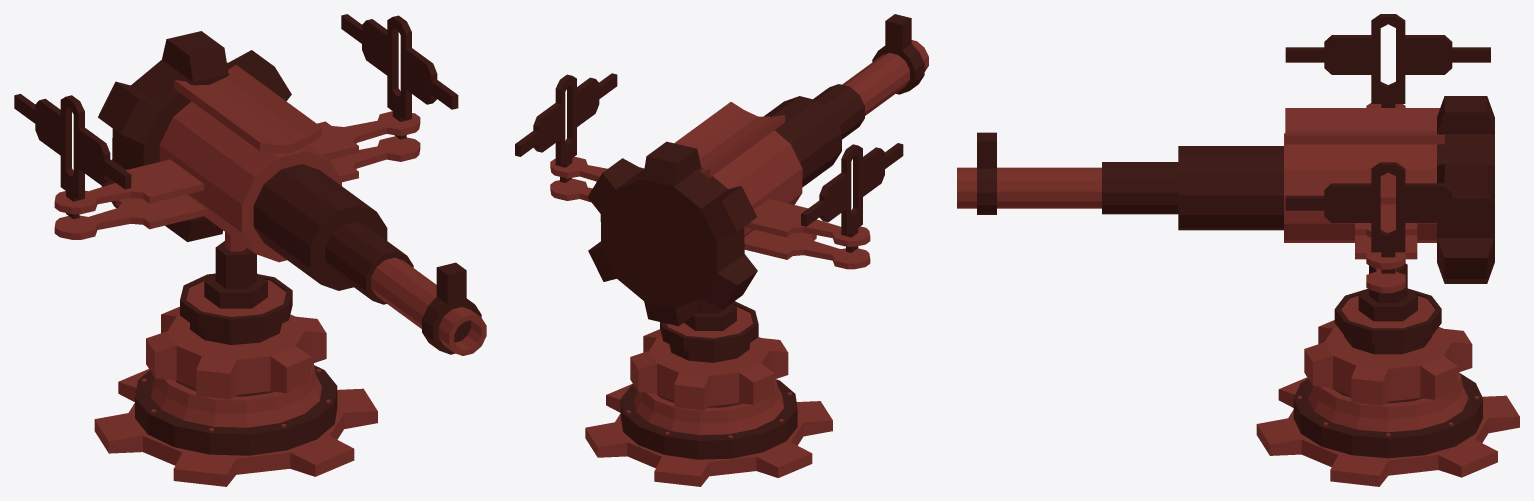
The model's file is Gun_3.glb.
3 views of the same model, side by side, from view 1: azimuth 30°, elevation 25°; view 2: azimuth 150°, elevation 25°; view 3: azimuth 270°, elevation 25° (orthographic). The views are drawn at different scales.
Parts seen in each view (by area): view 1: Gun_3_Gun, Gun_3_Base, Gun_3_Mid; view 2: Gun_3_Gun, Gun_3_Base, Gun_3_Mid; view 3: Gun_3_Gun, Gun_3_Base, Gun_3_Mid.
Boxes of the visible parts, x1,y1,x2,y2 form: Gun_3_Gun: (14, 14, 486, 355); Gun_3_Base: (94, 306, 377, 486); Gun_3_Mid: (180, 232, 292, 344); Gun_3_Gun: (515, 14, 928, 326); Gun_3_Base: (585, 329, 832, 486); Gun_3_Mid: (660, 298, 758, 362); Gun_3_Gun: (957, 14, 1494, 293); Gun_3_Base: (1256, 320, 1519, 486); Gun_3_Mid: (1334, 263, 1441, 354).
Size of the model in its own units: 1.36 by 1.33 by 1.97.
